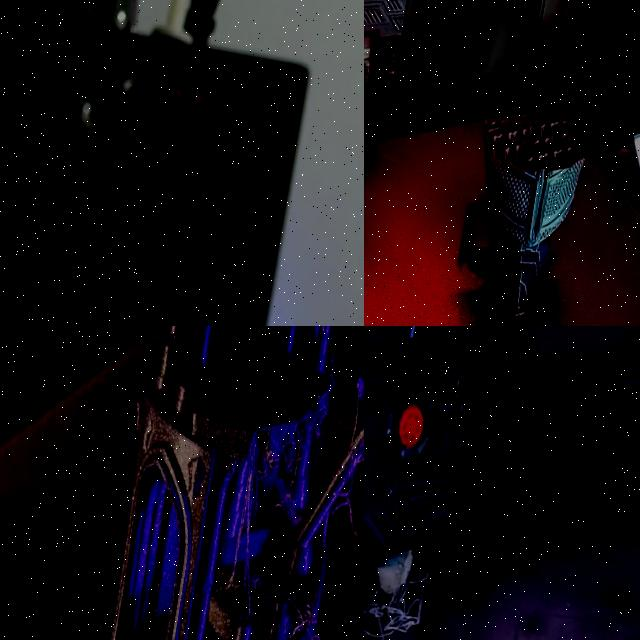spaghetti: (236, 408, 326, 532), (364, 566, 454, 640), (325, 427, 364, 544), (287, 592, 337, 640)
